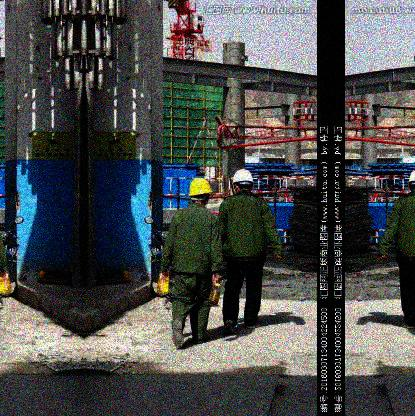helmet: (188, 177, 212, 206), (232, 168, 254, 194), (409, 169, 415, 196)
